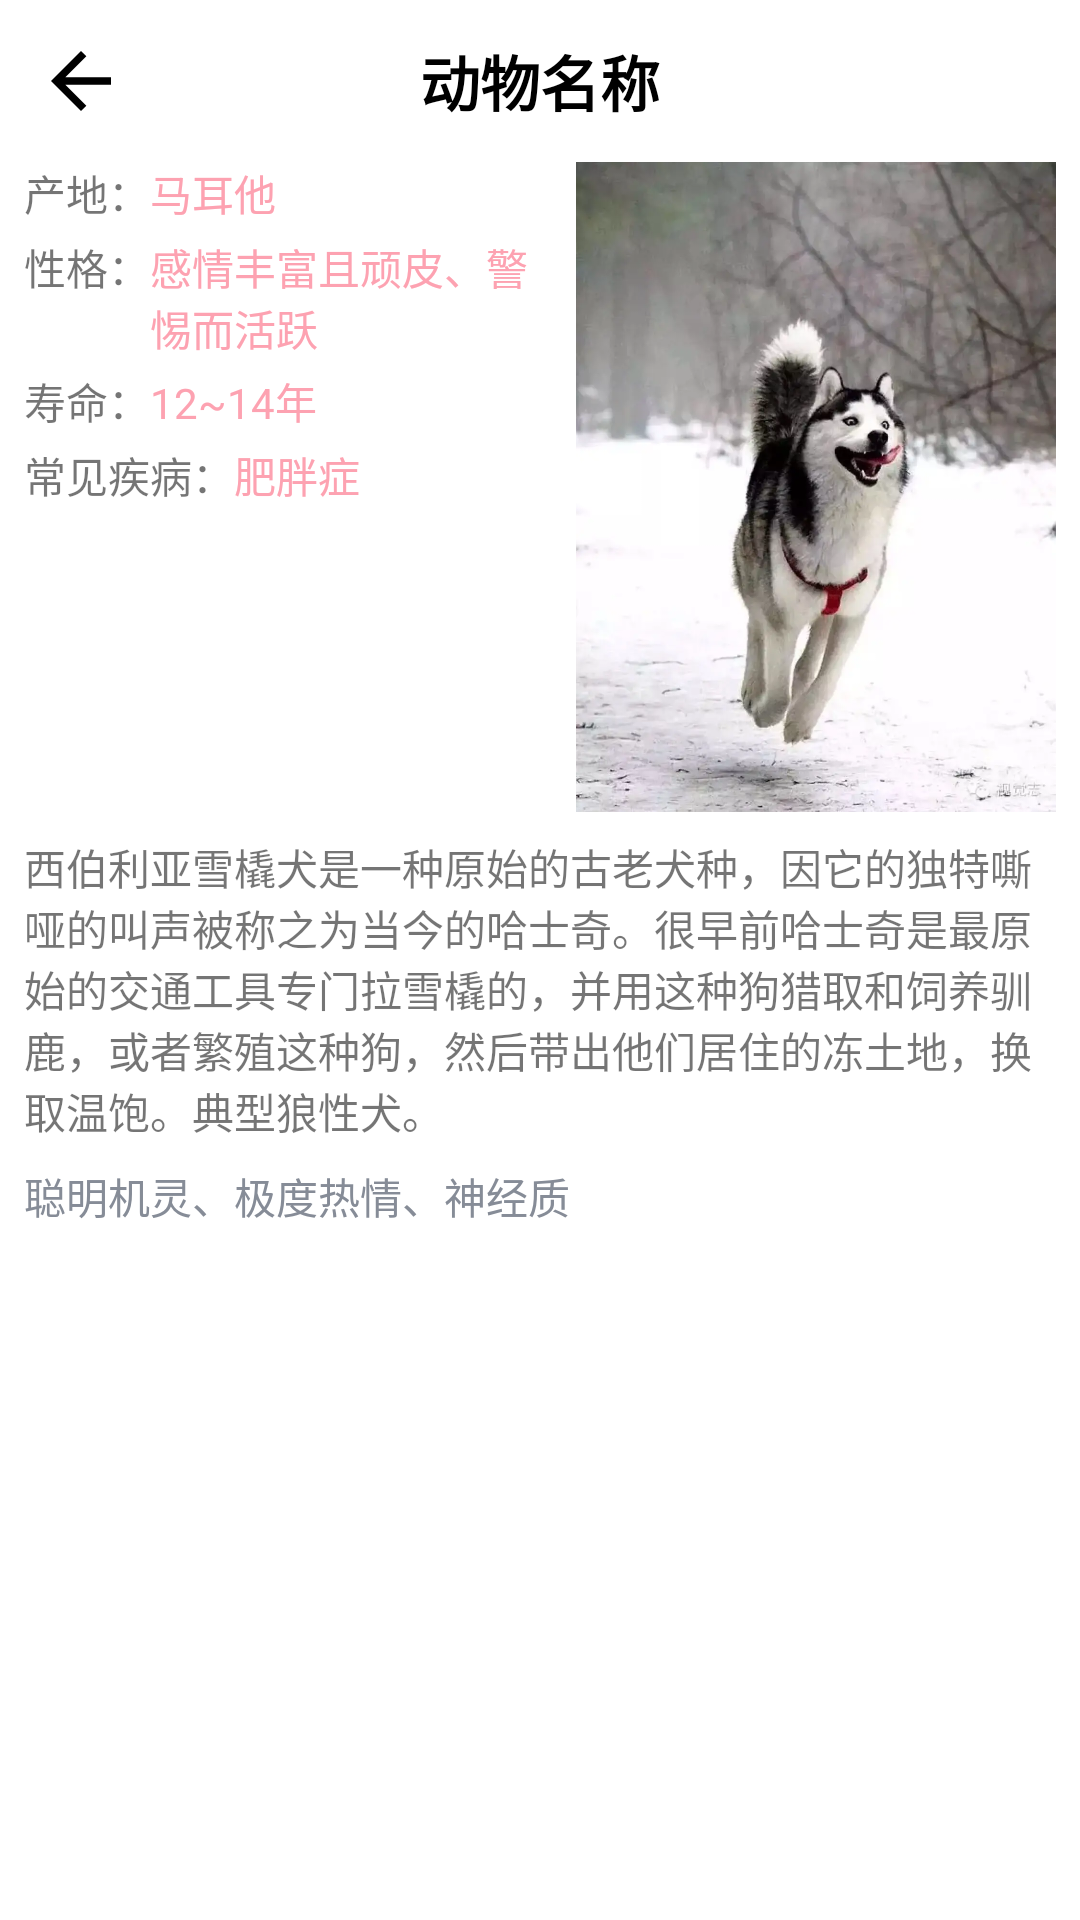

Where icons sit on this 1080*1920 app screen, as (x1, y1, x2, y2):
back: (51, 51, 111, 111)
